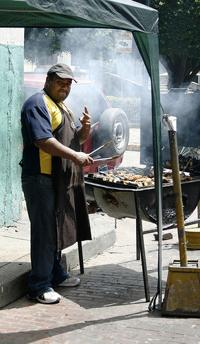person: (21, 65, 95, 305)
